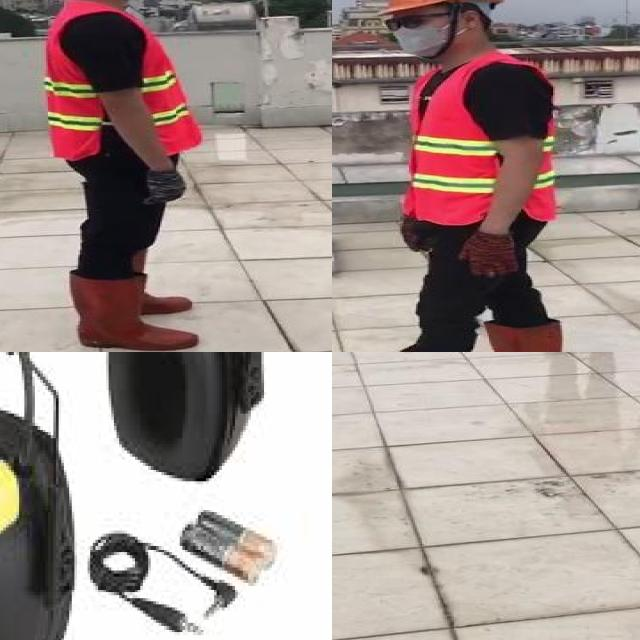Ear-protection: (103, 352, 264, 480), (0, 395, 74, 640)
boots: (67, 269, 199, 352), (96, 242, 199, 314), (460, 323, 561, 352)
face_mask: (381, 12, 452, 58)
glasses: (380, 12, 434, 36)
hand_glove: (461, 232, 519, 278), (135, 169, 187, 205), (396, 223, 436, 253)
head_helmet: (383, 0, 502, 14)
person: (332, 0, 567, 352), (23, 0, 220, 352)
vest: (37, 0, 202, 160), (404, 56, 560, 223)
